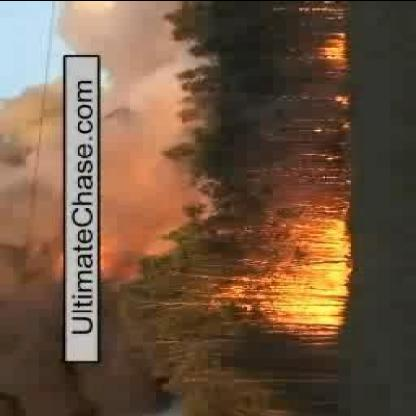-: (1, 94, 61, 326), (101, 43, 159, 250)
foggia-v2-map80-epoch100 - v1 4323: (278, 274, 346, 320)
